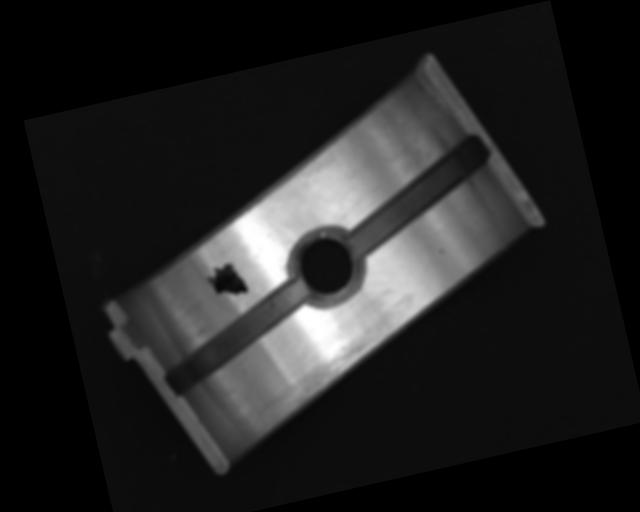blot: (202, 259, 251, 303)
bruise: (435, 247, 446, 257)
gap: (333, 134, 503, 258), (151, 279, 323, 396)
hole: (283, 220, 369, 311)
scratch: (247, 332, 401, 434)
